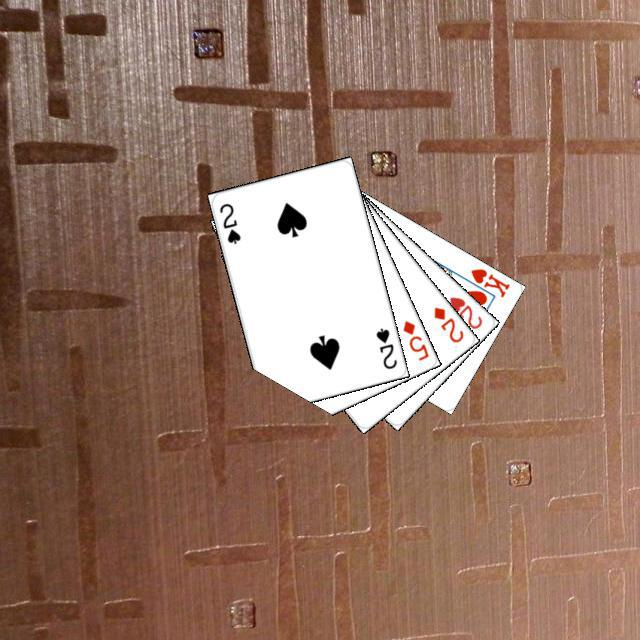2d: (429, 302, 465, 344)
2h: (445, 292, 484, 331)
2s: (371, 323, 399, 371), (214, 198, 242, 245)
5d: (398, 315, 430, 362)
Kh: (457, 263, 512, 301)
